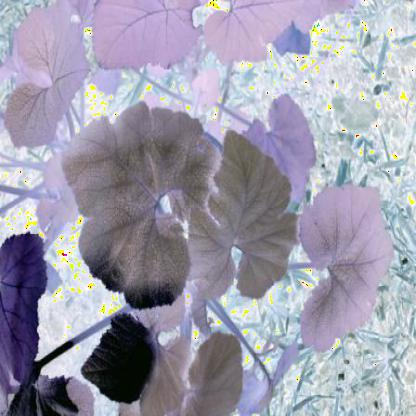Squash Powdery mildew leaf: (68, 108, 223, 305), (192, 119, 296, 302), (302, 165, 397, 352), (89, 316, 179, 415), (189, 329, 254, 415)
